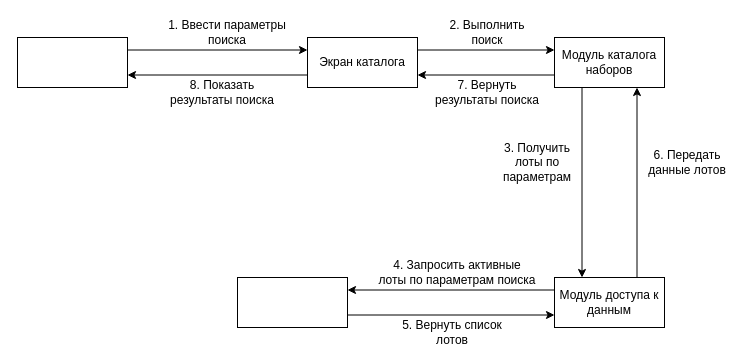
Some shapes in this 755 by 364 pixel diagram are drawn without their labels. Each missing label, with the centre of its shape:
БД: point (292, 302)
Покупатель: point (72, 62)
